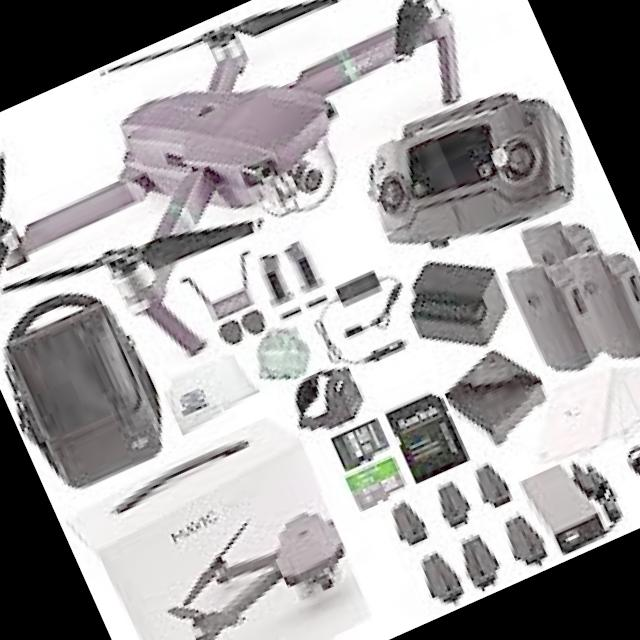drone: (0, 0, 608, 441)
